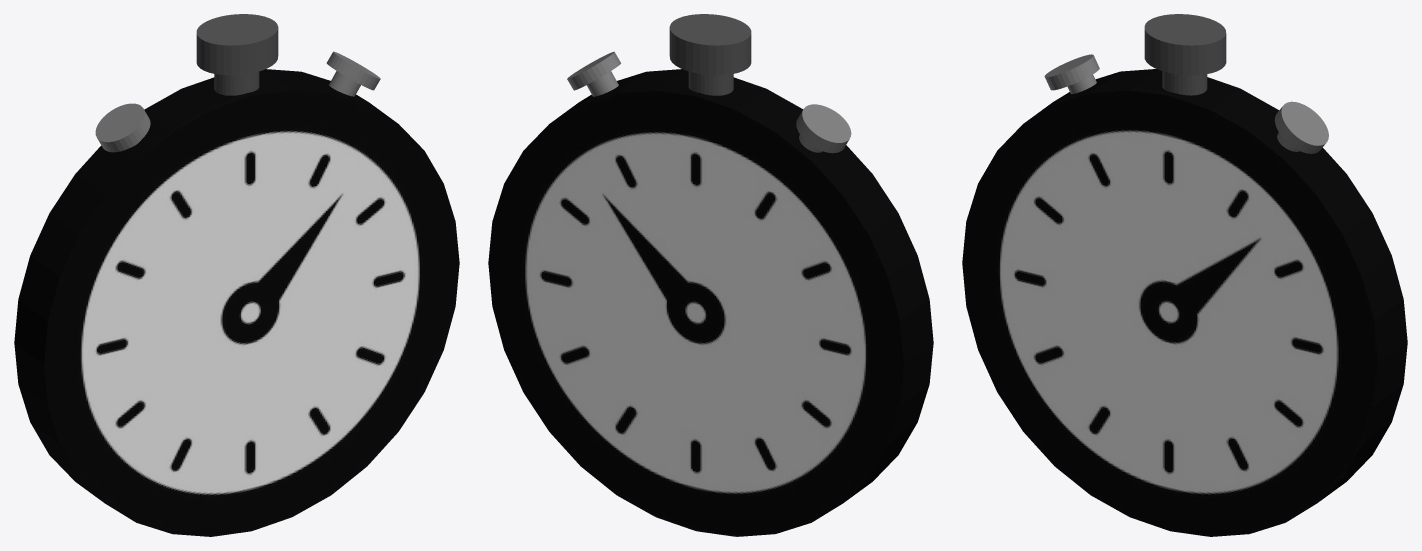
The model's file is timer.glb.
3 views of the same model, side by side, from view 1: azimuth 30°, elevation 25°; view 2: azimuth 150°, elevation 25°; view 3: azimuth 330°, elevation 25° (orthographic).
Parts seen in each view (by area): view 1: 円柱, 円柱.002, 円柱.004, 円柱.008, 円柱.001; view 2: 円柱, 円柱.002, 円柱.004, 円柱.008, 円柱.001; view 3: 円柱, 円柱.002, 円柱.008, 円柱.004, 円柱.001.
Part boxes in pixels (left/top/right/bottom): 円柱: left=14, top=69, right=459, bottom=536; 円柱.002: left=196, top=14, right=278, bottom=75; 円柱.004: left=95, top=103, right=150, bottom=152; 円柱.008: left=326, top=51, right=380, bottom=90; 円柱.001: left=214, top=71, right=259, bottom=95; 円柱: left=488, top=69, right=933, bottom=536; 円柱.002: left=669, top=14, right=751, bottom=75; 円柱.004: left=796, top=104, right=851, bottom=153; 円柱.008: left=567, top=51, right=620, bottom=90; 円柱.001: left=688, top=71, right=733, bottom=95; 円柱: left=962, top=69, right=1407, bottom=536; 円柱.002: left=1144, top=14, right=1226, bottom=75; 円柱.008: left=1274, top=101, right=1328, bottom=153; 円柱.004: left=1044, top=54, right=1099, bottom=90; 円柱.001: left=1162, top=71, right=1207, bottom=95.
Bounding box in the file's own units: 2 × 2.26 × 0.2958.
Materials: 7 (1 with a texture image).
